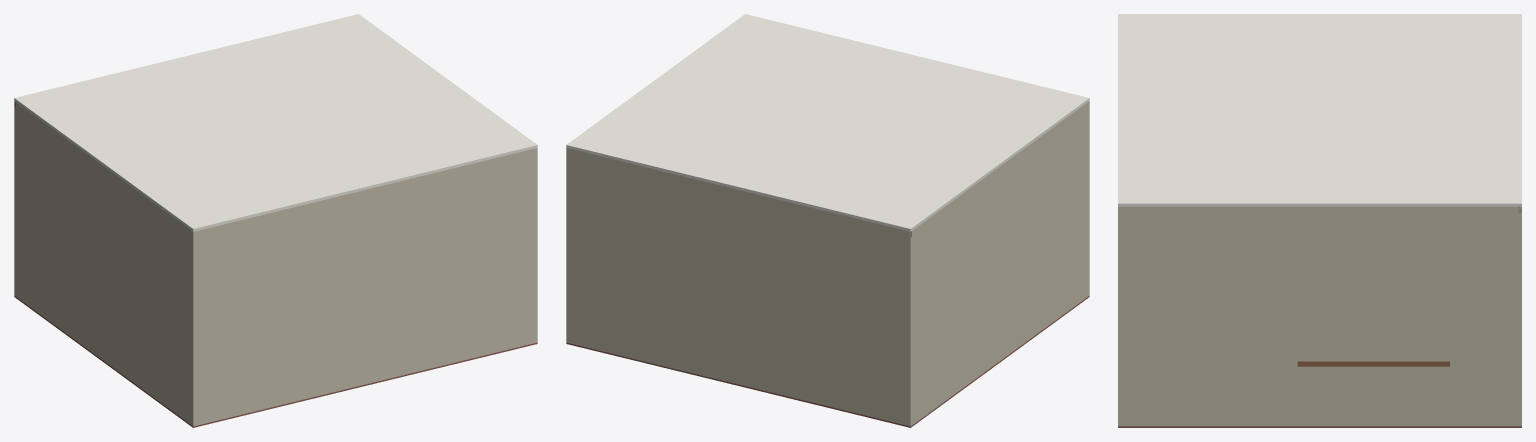
File: hotel-room-1967.glb
3 views of the same model, side by side, from view 1: azimuth 30°, elevation 25°; view 2: azimuth 150°, elevation 25°; view 3: azimuth 270°, elevation 25° (orthographic). The views are drawn at different scales.
Visible parts, largest first — view 1: room-shell-geo, floor-geo; view 2: room-shell-geo, floor-geo; view 3: room-shell-geo, floor-geo.
Boxes of the visible parts, x1=… form: room-shell-geo: x1=14, y1=14, x2=537, y2=426; floor-geo: x1=14, y1=296, x2=537, y2=427; room-shell-geo: x1=566, y1=14, x2=1089, y2=426; floor-geo: x1=566, y1=296, x2=1089, y2=427; room-shell-geo: x1=1118, y1=14, x2=1521, y2=426; floor-geo: x1=1118, y1=426, x2=1521, y2=427.
Size of the model in its own units: 5.01 by 2.76 by 4.5.
